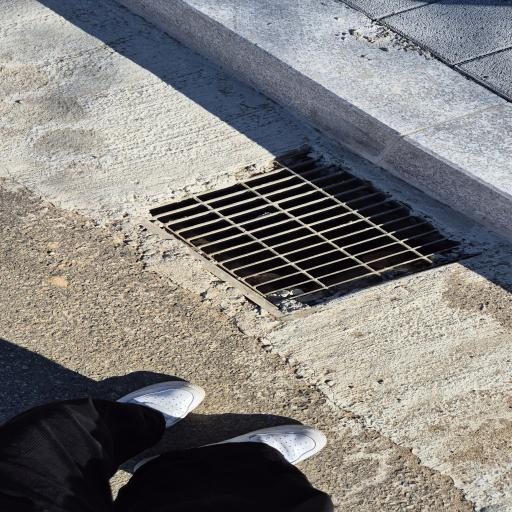drain: (150, 153, 460, 304)
